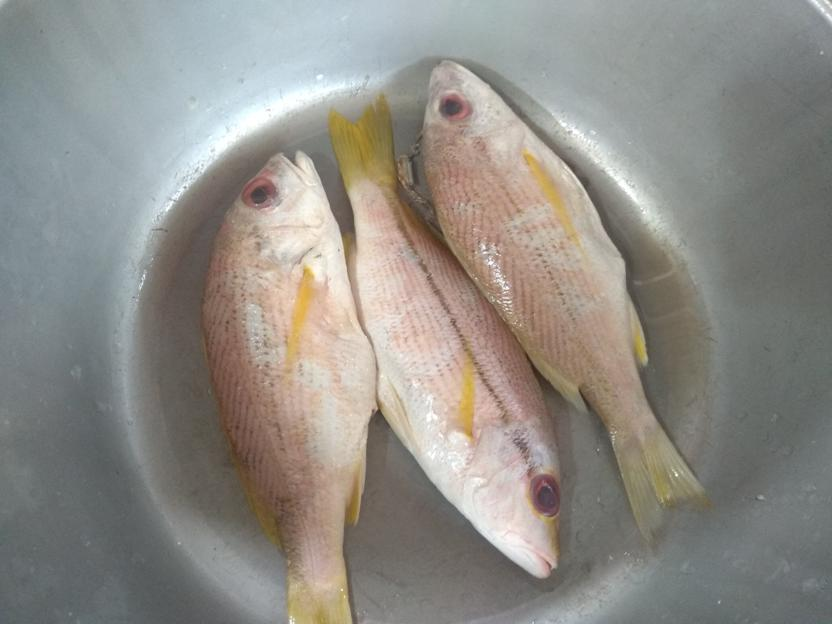Fish head: (472, 426, 564, 580), (223, 149, 339, 268), (420, 59, 526, 171)
Fish tail: (610, 415, 703, 536), (328, 92, 398, 193), (289, 577, 355, 624)
